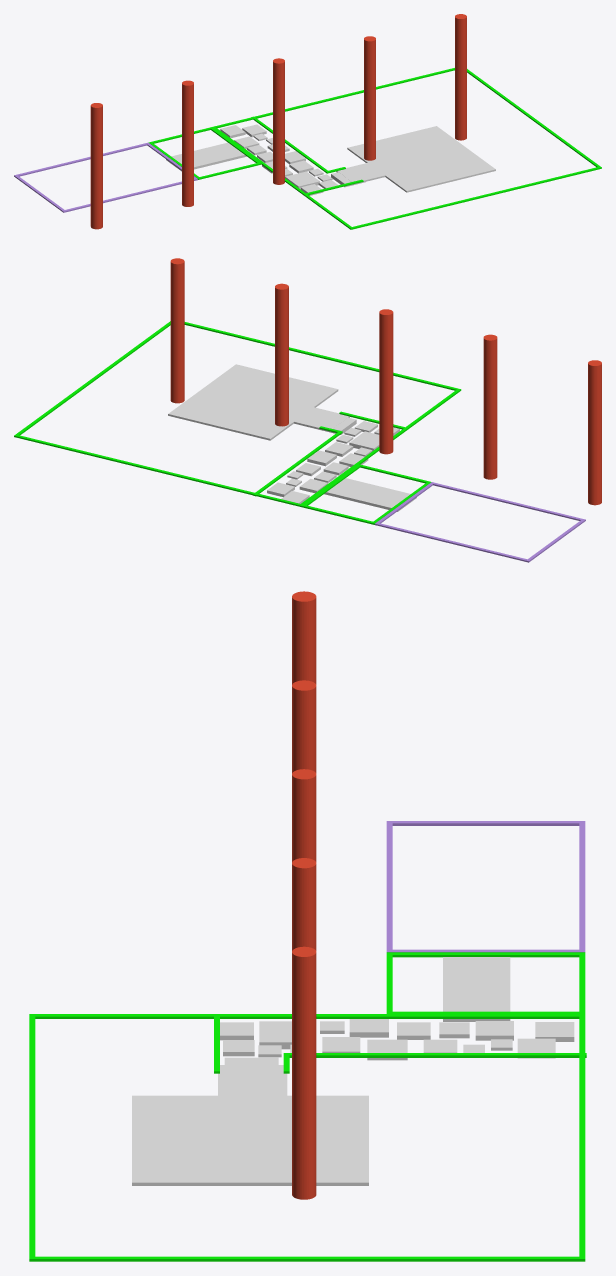
File: PL_LBVR_SC07_v01.fbx
3 renders of one model, top to bottom at view 1: azimuth 30°, elevation 25°; view 2: azimuth 150°, elevation 25°; view 3: azimuth 270°, elevation 25°, orthographic. The views are drawn at different scales.
Parts seen in each view (by area): view 1: DEIXAR EM TODOS OS LEVELS P/ REF, Cube.100, Cube.088, Cube.085, Plane.029, Cube.086, Cube.089, Plane.026; view 2: DEIXAR EM TODOS OS LEVELS P/ REF, Cube.100, Cube.088, Cube.085, Plane.029, Cube.086, Cube.089, Plane.026; view 3: Cube.100, DEIXAR EM TODOS OS LEVELS P/ REF, Cube.088, Plane.029, Cube.085, Cube.086, Cube.089, Plane.026.
Boxes of the visible parts, left/top/right/bottom form: DEIXAR EM TODOS OS LEVELS P/ REF: left=90, top=14, right=466, bottom=229; Cube.100: left=336, top=126, right=495, bottom=192; Cube.088: left=212, top=68, right=601, bottom=229; Cube.085: left=14, top=142, right=197, bottom=212; Plane.029: left=166, top=142, right=246, bottom=171; Cube.086: left=148, top=127, right=261, bottom=179; Cube.089: left=251, top=116, right=363, bottom=195; Plane.026: left=285, top=171, right=319, bottom=189; DEIXAR EM TODOS OS LEVELS P/ REF: left=170, top=258, right=601, bottom=505; Cube.100: left=168, top=364, right=349, bottom=440; Cube.088: left=14, top=321, right=461, bottom=507; Cube.085: left=374, top=482, right=585, bottom=562; Plane.029: left=324, top=478, right=416, bottom=511; Cube.086: left=302, top=464, right=431, bottom=524; Cube.089: left=253, top=411, right=407, bottom=496; Plane.026: left=349, top=431, right=379, bottom=450; Cube.100: left=132, top=1065, right=368, bottom=1185; DEIXAR EM TODOS OS LEVELS P/ REF: left=292, top=591, right=316, bottom=1199; Cube.088: left=29, top=1014, right=585, bottom=1261; Plane.029: left=443, top=957, right=510, bottom=1021; Cube.085: left=386, top=821, right=585, bottom=952; Cube.086: left=386, top=952, right=585, bottom=1013; Cube.089: left=214, top=1014, right=586, bottom=1073; Plane.026: left=259, top=1021, right=291, bottom=1049.
Bounding box in the file's own units: 1728 × 452 × 928.
